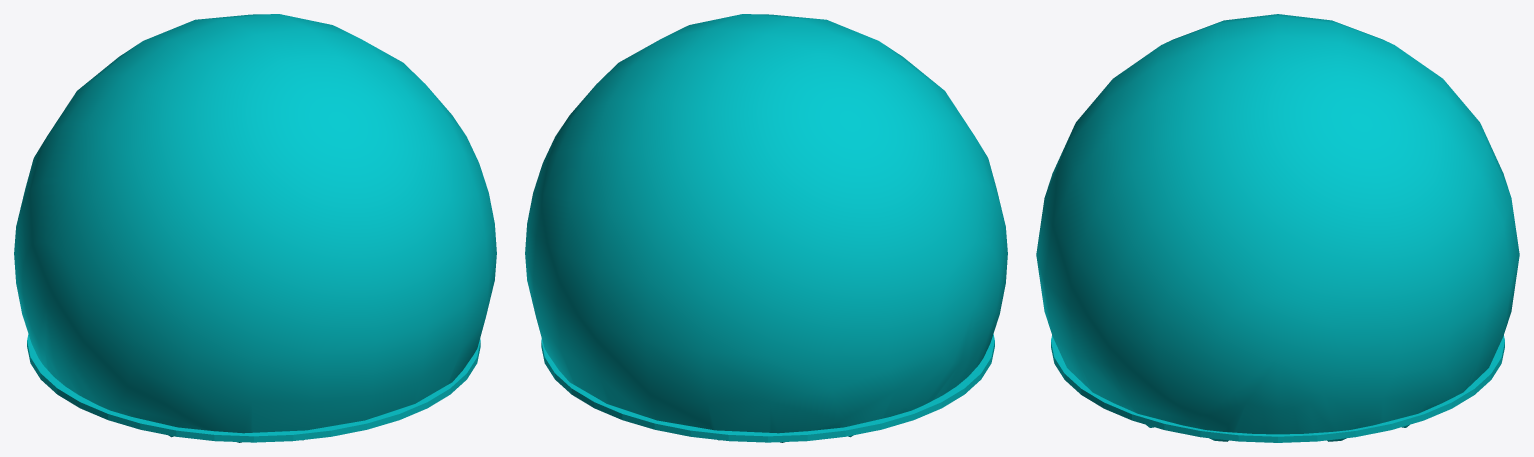
Rendered from Salle de tp sans tp 2 rouge.fbx.
3 views of the same model, side by side, from view 1: azimuth 30°, elevation 25°; view 2: azimuth 150°, elevation 25°; view 3: azimuth 270°, elevation 25° (orthographic).
Parts seen in each view (by area): view 1: Sphère_1, Tube; view 2: Sphère_1, Tube; view 3: Sphère_1, Tube.
Part boxes in pixels (bbox=[...]): Sphère_1: bbox=[14, 14, 496, 442]; Tube: bbox=[27, 334, 480, 442]; Sphère_1: bbox=[525, 14, 1007, 442]; Tube: bbox=[541, 334, 994, 442]; Sphère_1: bbox=[1036, 14, 1519, 441]; Tube: bbox=[1051, 335, 1504, 442].
Size of the model in its own units: 3500 by 2557 by 3500.
